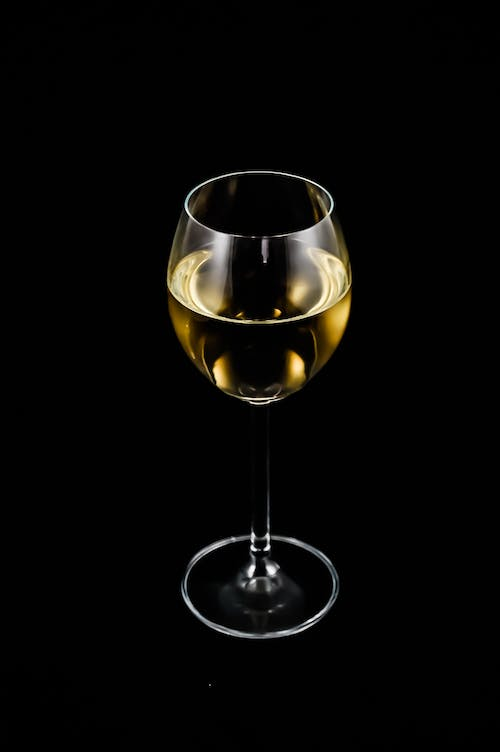alcohol: (163, 168, 355, 641)
